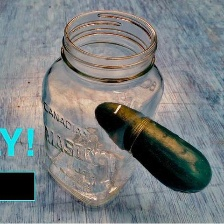bottle: (36, 6, 166, 208)
